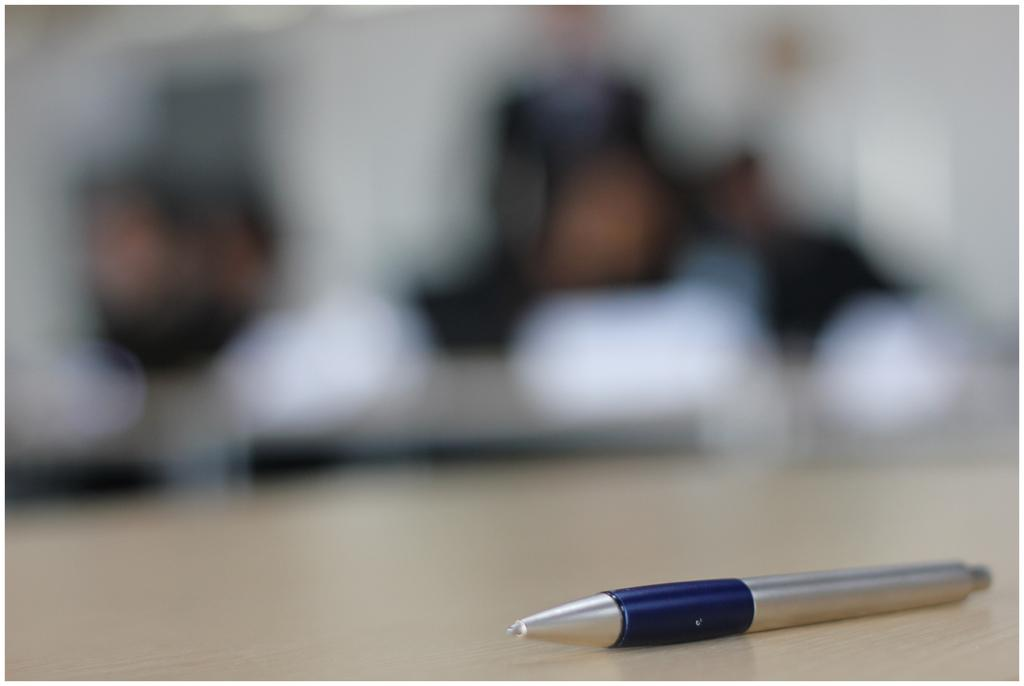pen: (506, 554, 994, 652)
